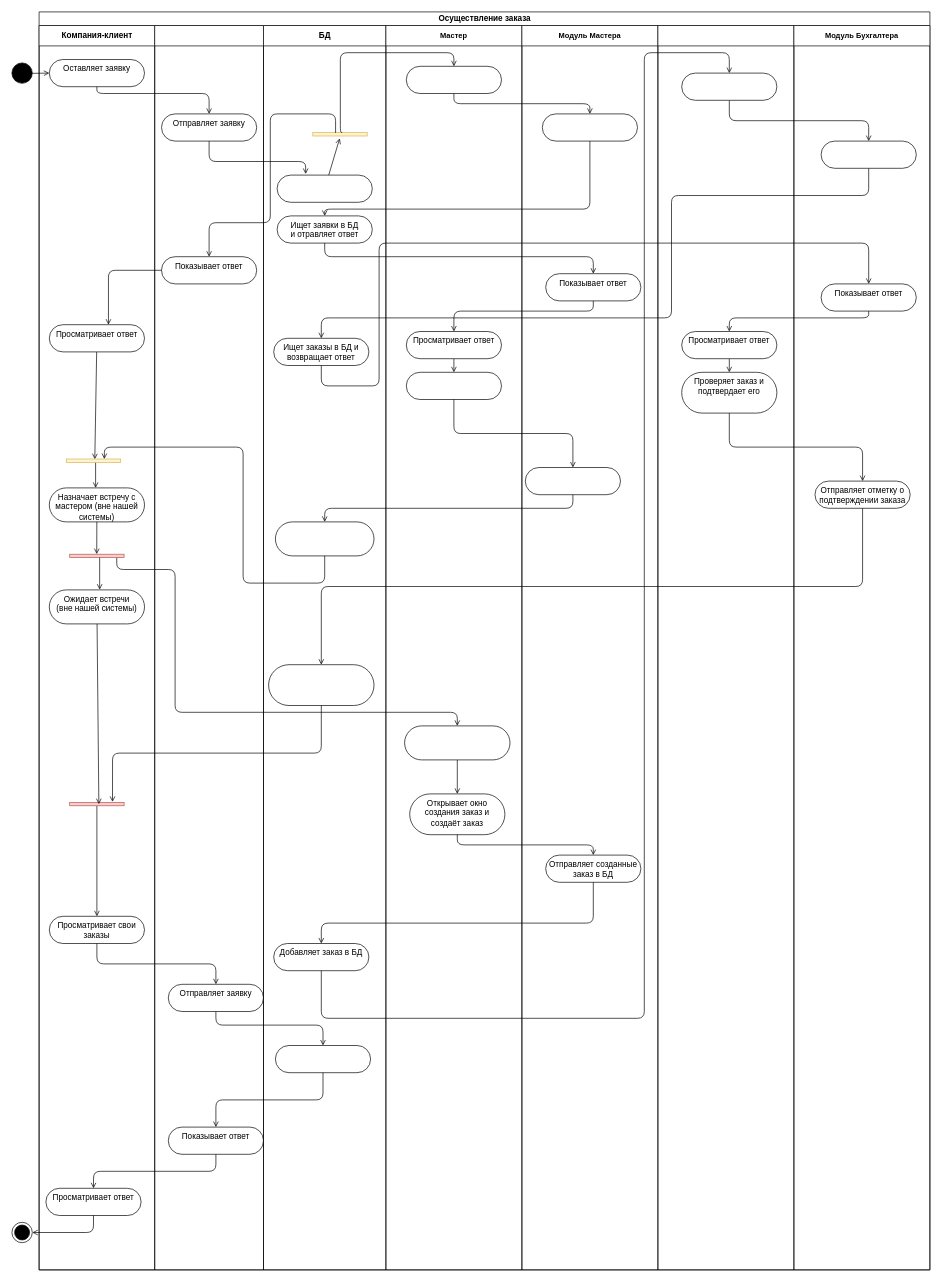
Image size: 942x1282. Some labels were removed from this diagram. The box of each missing label's shape, as (x1, y1, x2, y2) in pixels:
Бухгалтер: (657, 25, 794, 1270)
Запрашивает заявки: (542, 113, 638, 141)
Ищет заказы в БД и отравляет ответ: (275, 1045, 371, 1073)
Осматривает заявленные станки (вне нашей системы): (404, 725, 510, 760)
Открывает окно заказов: (681, 72, 777, 100)
Открывает окно заявок: (406, 66, 502, 94)
Отмечает мастера в заявке: (525, 467, 620, 495)
Отмечает себя в заявке: (406, 372, 502, 400)
Отправляет запрос заказов: (820, 140, 916, 168)
Регистрирует заявку в БД и отравляет ответ: (276, 174, 372, 202)
Регистрирует мастера в заявке в БД: (275, 521, 374, 556)
Регистрирует отметку о подтверждении заказа в БД: (268, 664, 374, 706)
Сайт: (154, 25, 264, 1270)
